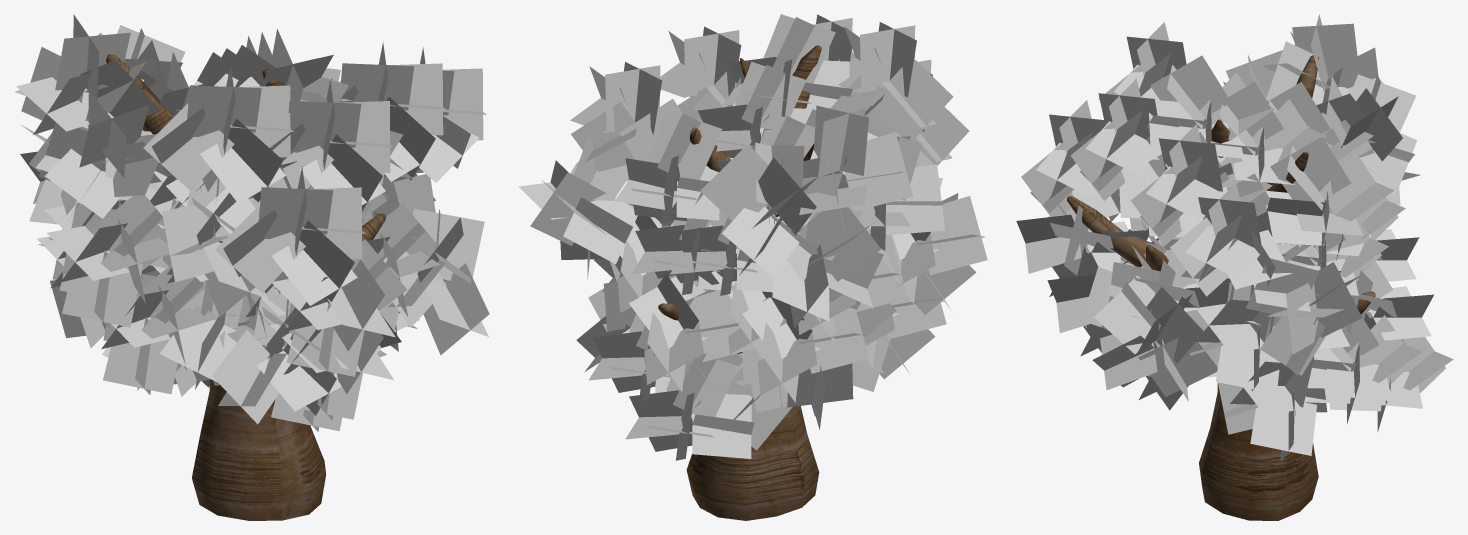
File: tree 4.fbx
The picture shows the model from 3 angles, left to right: view 1: azimuth 30°, elevation 25°; view 2: azimuth 150°, elevation 25°; view 3: azimuth 270°, elevation 25°; orthographic projection. The views are drawn at different scales.
Visible parts, largest first — view 1: LLP3.606, LP+; view 2: LLP3.606, LP+; view 3: LLP3.606, LP+.
Boxes of the visible parts, x1,y1,x2,y2 form: LLP3.606: (14, 14, 489, 431); LP+: (106, 54, 385, 520); LLP3.606: (518, 14, 987, 460); LP+: (658, 45, 821, 520); LLP3.606: (1016, 14, 1453, 461); LP+: (1067, 55, 1375, 520).
Bounding box in the file's own units: 6689 × 7237 × 6569.
